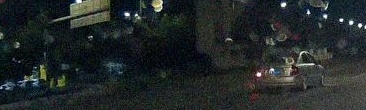L_light: (255, 71, 264, 77)
R_light: (289, 65, 299, 75)
T_light: (279, 53, 286, 55)
night-left: (253, 51, 303, 92)
